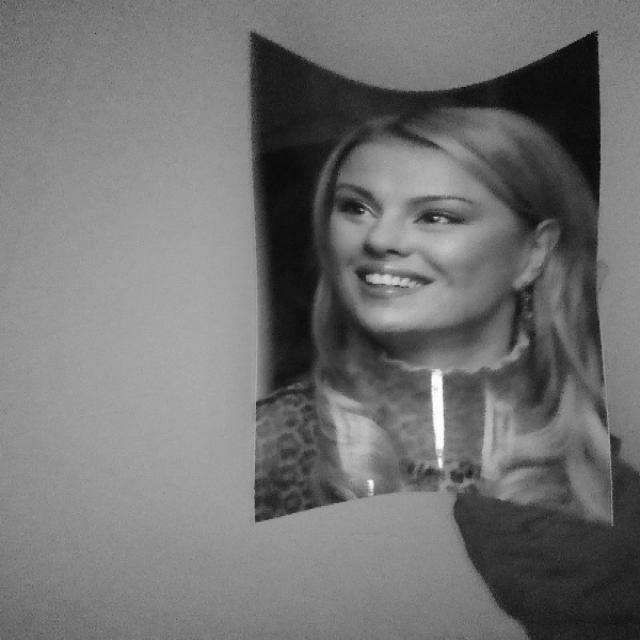fake: (242, 27, 620, 539)
